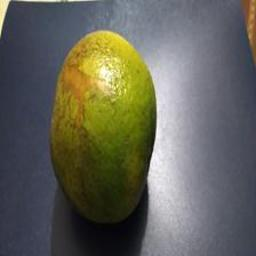Orange Semifresh: (33, 26, 163, 221)
